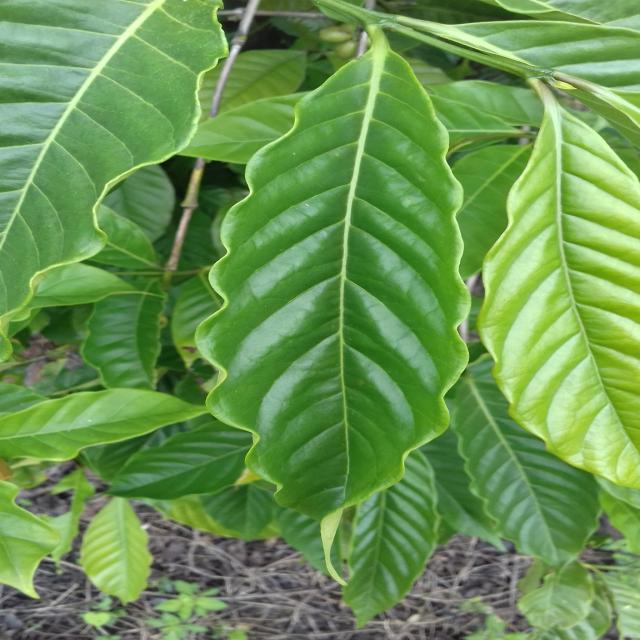Sanas: (198, 29, 486, 506)
